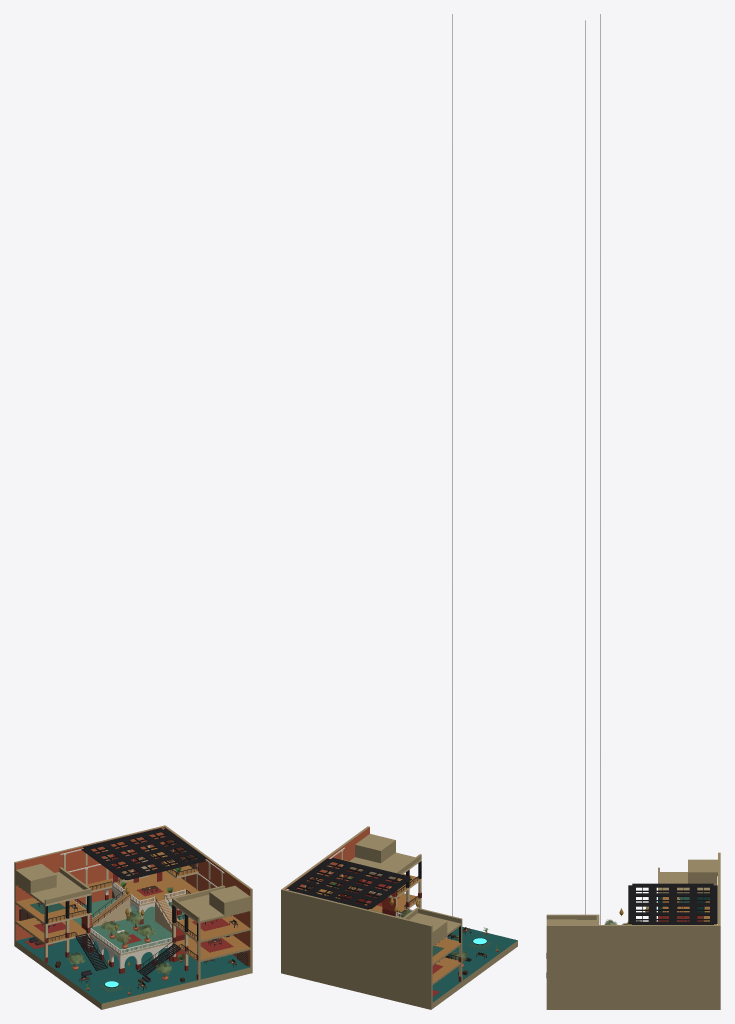
File: welt.glb
The picture shows the model from 3 angles, left to right: view 1: azimuth 30°, elevation 25°; view 2: azimuth 150°, elevation 25°; view 3: azimuth 270°, elevation 25°; orthographic projection.
Parts seen in each view (by area): view 1: LM0, LM1, LM2, DACH, LAUB; view 2: LM1, LM0, DACH, EMI, LM2; view 3: LM1, DACH, EMI, LM0.
Part boxes in pixels (box(x1,y1,x2,y2)): LM0: box(15, 848, 250, 1009); LM1: box(14, 825, 252, 980); LM2: box(19, 851, 248, 995); DACH: box(81, 828, 206, 880); LAUB: box(68, 867, 184, 991); LM1: box(281, 826, 462, 1009); LM0: box(316, 852, 517, 1008); DACH: box(287, 858, 411, 909); EMI: box(452, 14, 486, 944); LM2: box(306, 875, 498, 975); LM1: box(546, 852, 720, 1009); DACH: box(628, 883, 717, 924); EMI: box(585, 14, 679, 924); LM0: box(576, 872, 716, 924).
Size of the model in its own units: 40.63 by 242 by 40.63.
